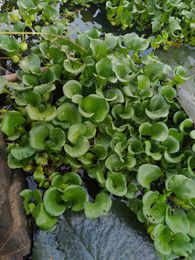water_hyacinth: (2, 32, 195, 257)
